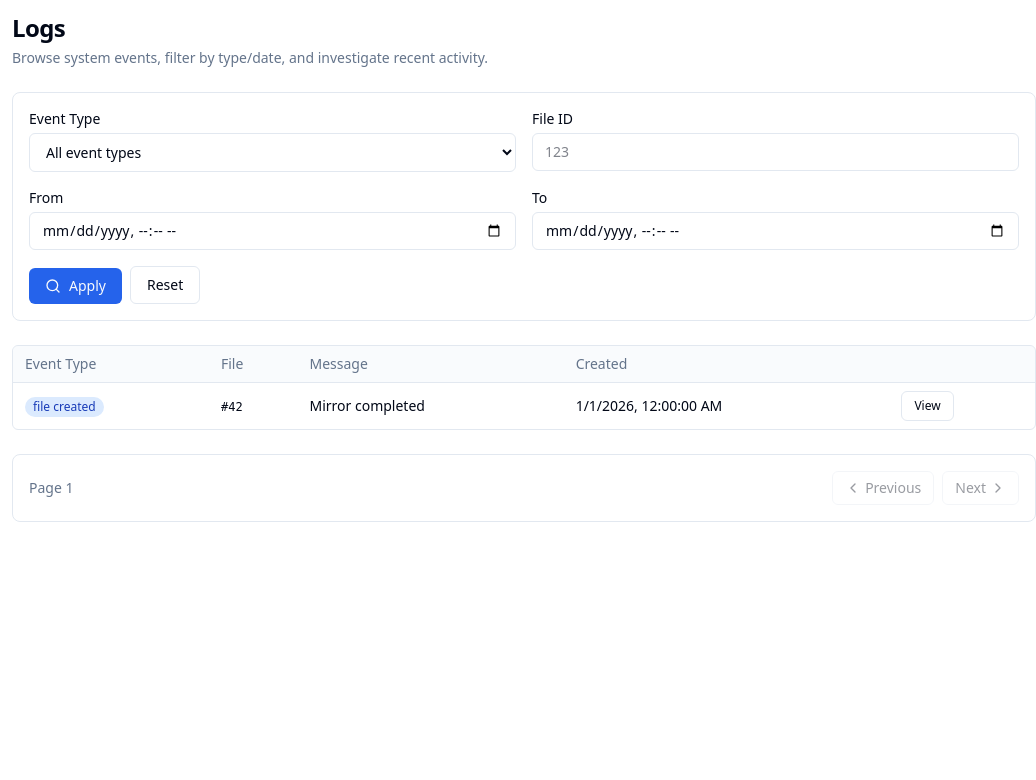
LogsPage › applies filters and expands log details
The image size is (1036, 780).
Expected: the row with test id "log-row-9" is shown, top-left (13, 382), bottom-right (1035, 429)
Type "42" into the number field labelled "File ID".
click(776, 152); type("42")  # box top-left (532, 133), bottom-right (1019, 171)
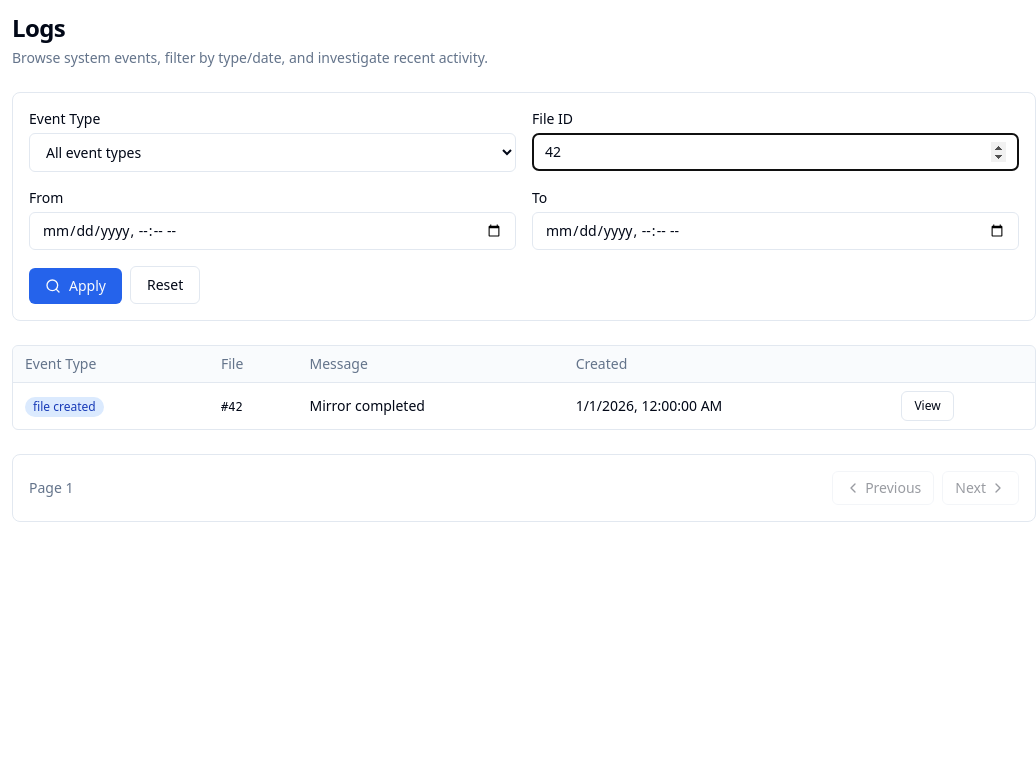
Click the button "Apply".
click(75, 286)  # box top-left (29, 268), bottom-right (122, 304)
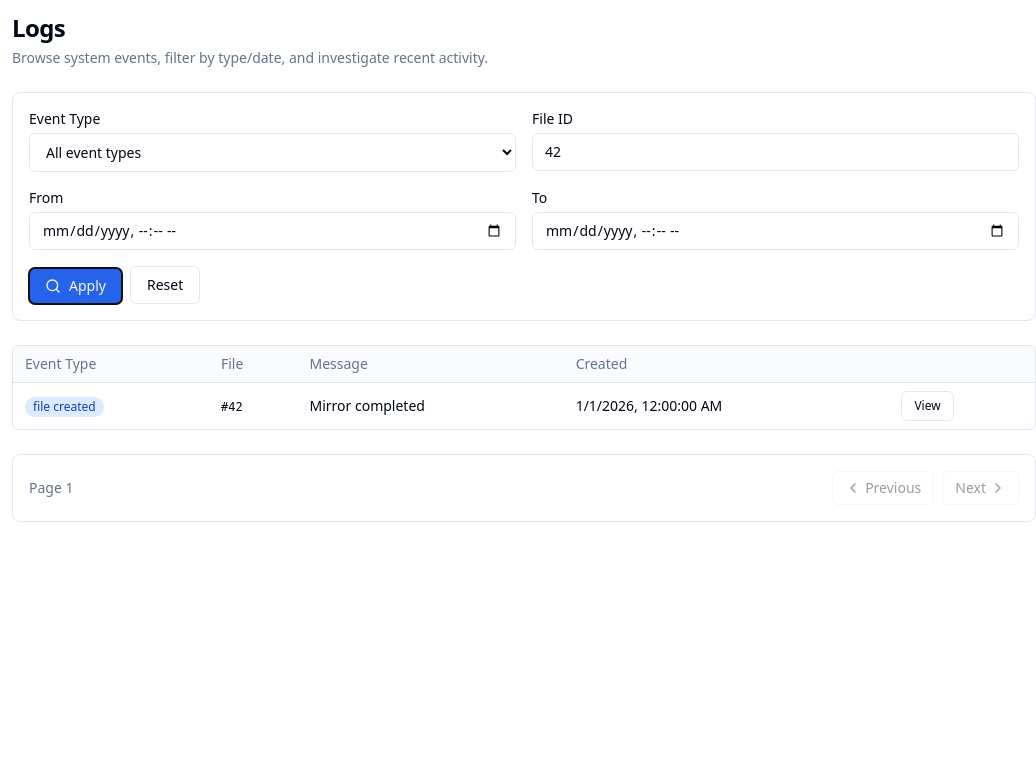
Click the button "View".
click(928, 406)  # box top-left (901, 391), bottom-right (954, 421)
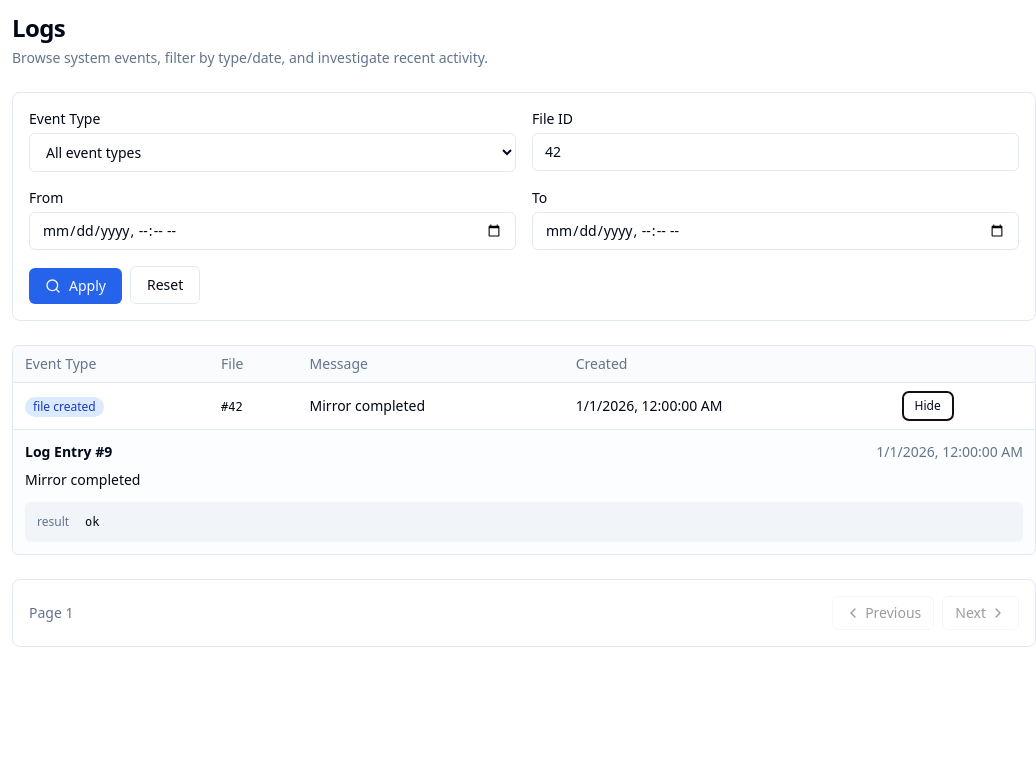
Expected: the heading "Log Entry #9" is shown, top-left (25, 442), bottom-right (112, 462)
Expected: the text "result" is shown, top-left (37, 514), bottom-right (69, 530)
Expected: the text "ok" is shown, top-left (85, 515), bottom-right (100, 529)
